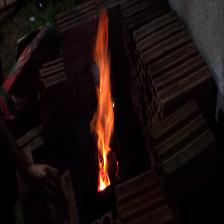fire: (91, 11, 114, 194)
